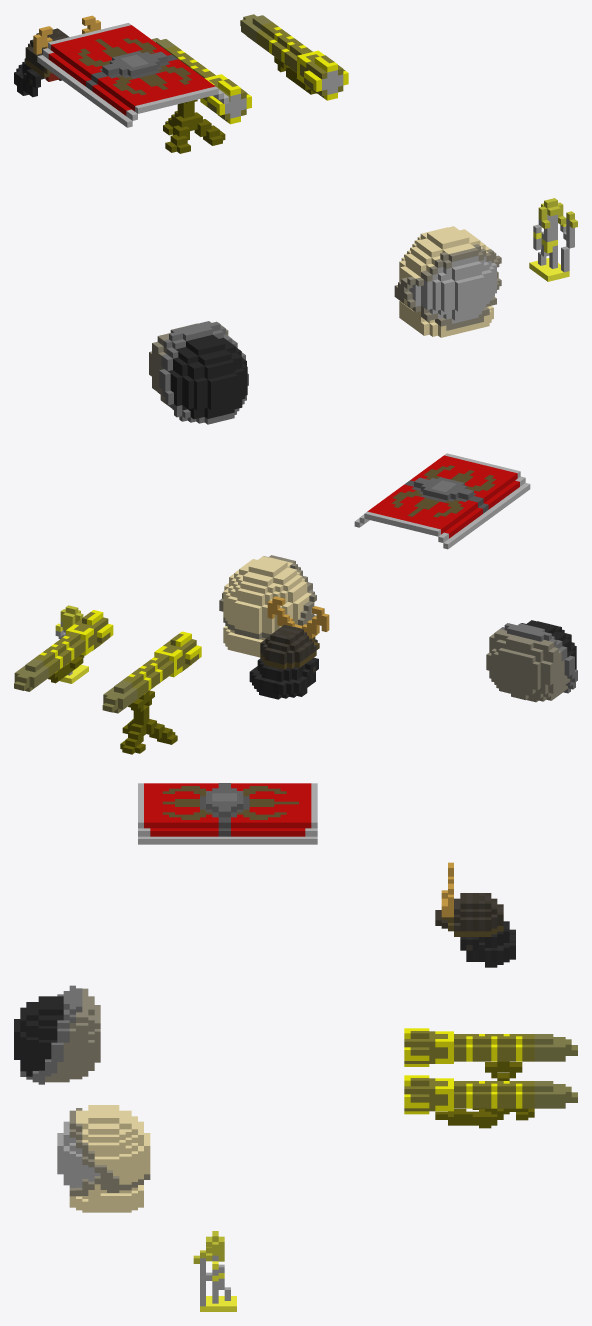
The model's file is MainThings_Vox-0.obj.
3 renders of one model, top to bottom at view 1: azimuth 30°, elevation 25°; view 2: azimuth 150°, elevation 25°; view 3: azimuth 270°, elevation 25°, orthographic. The views are drawn at different scales.
Size of the model in its own units: 9 by 5.5 by 9.1.
Materials: 1 (1 with a texture image).
